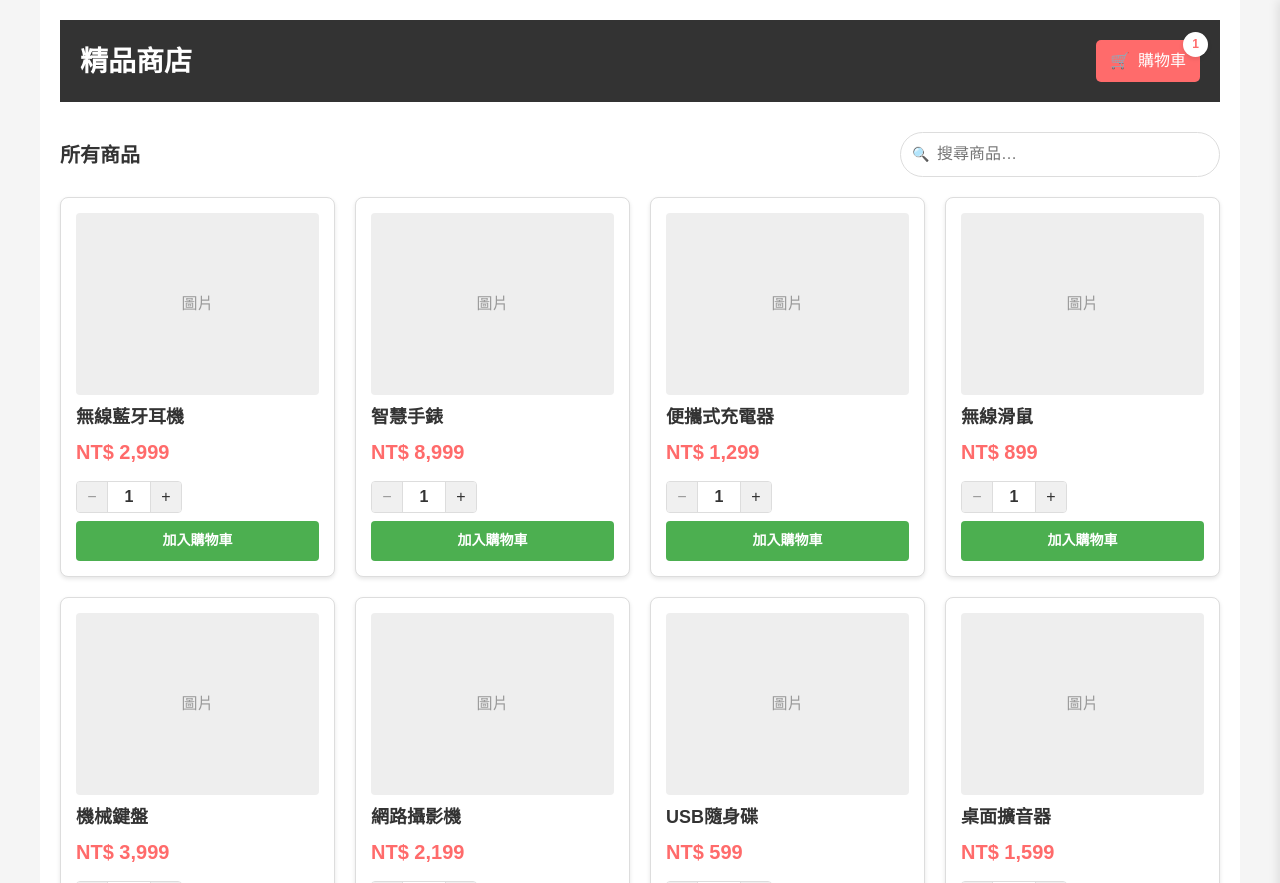
Test: Shop › asks for confirmation when decrementing the last unit
This screenshot has width=1280, height=883.
Check: the heading "智慧手錶" is shown, box [371,407,443,427]
What coordinates should you click on to do the following:
click the button with aria-label "購物車，共"
I would click on:
 (1148, 61)
Its box is [1096,40,1200,82].
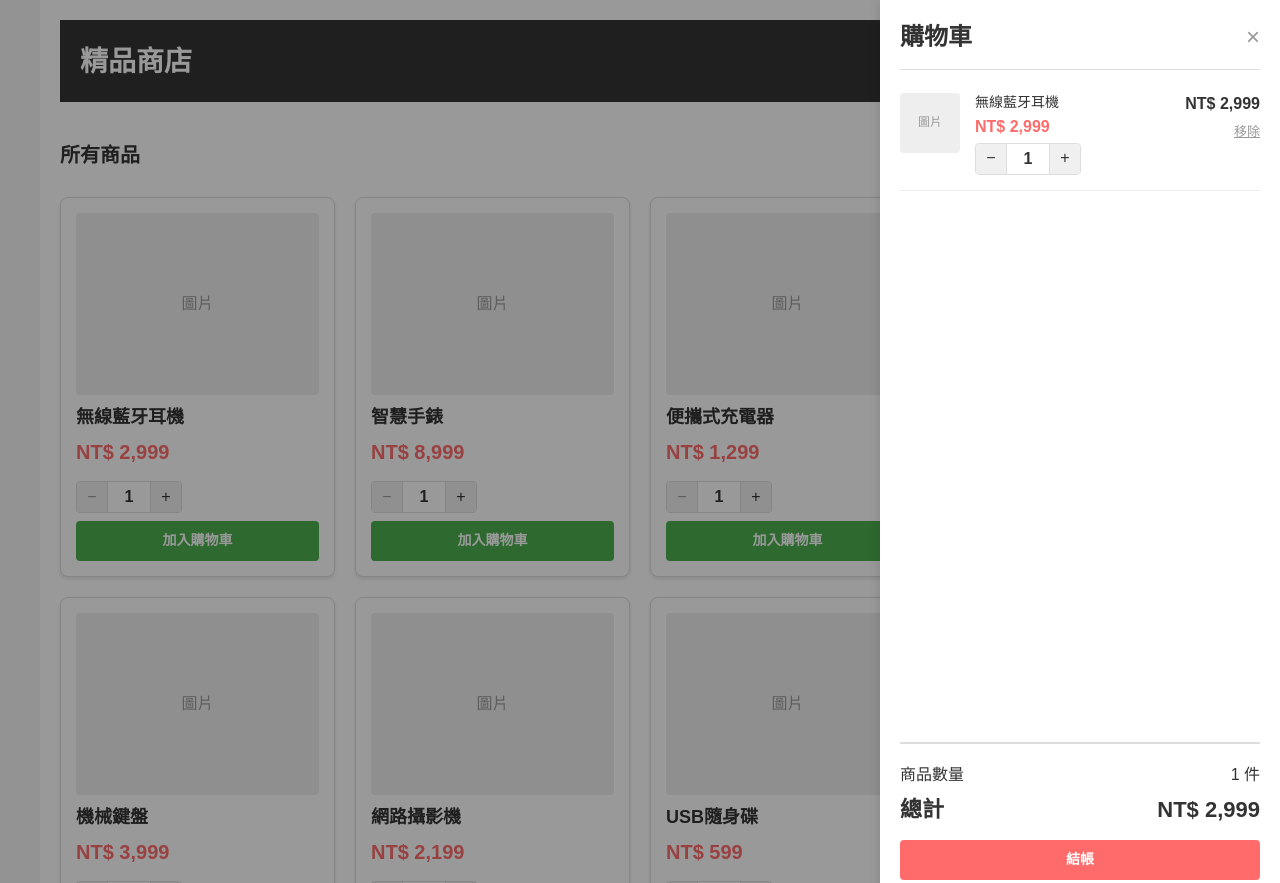
What coordinates should you click on to do the following:
click the button named "減少數量"
I would click on:
 (991, 159)
Its box is [976,144,1006,174].
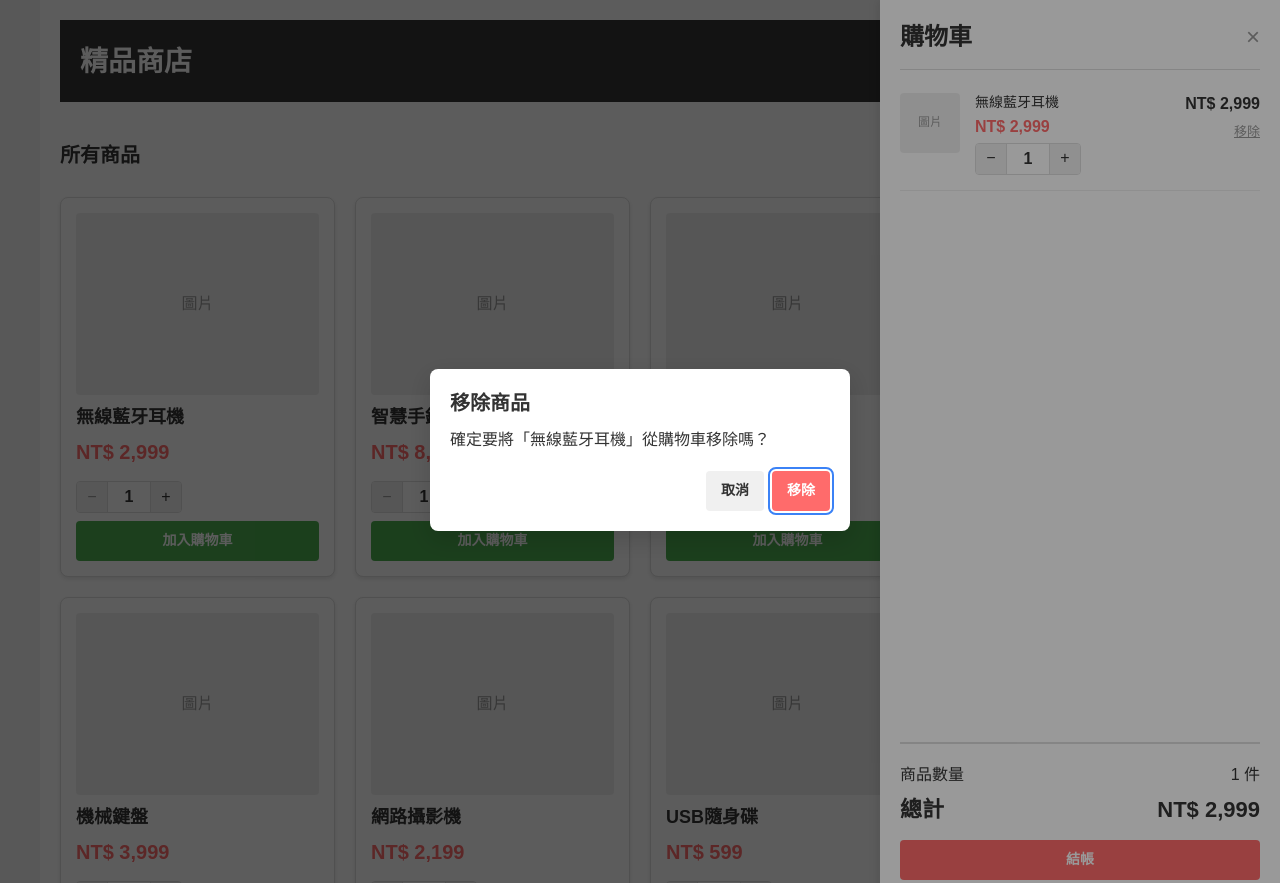
Check: the dialog "移除商品" is shown, box [430,369,850,531]
